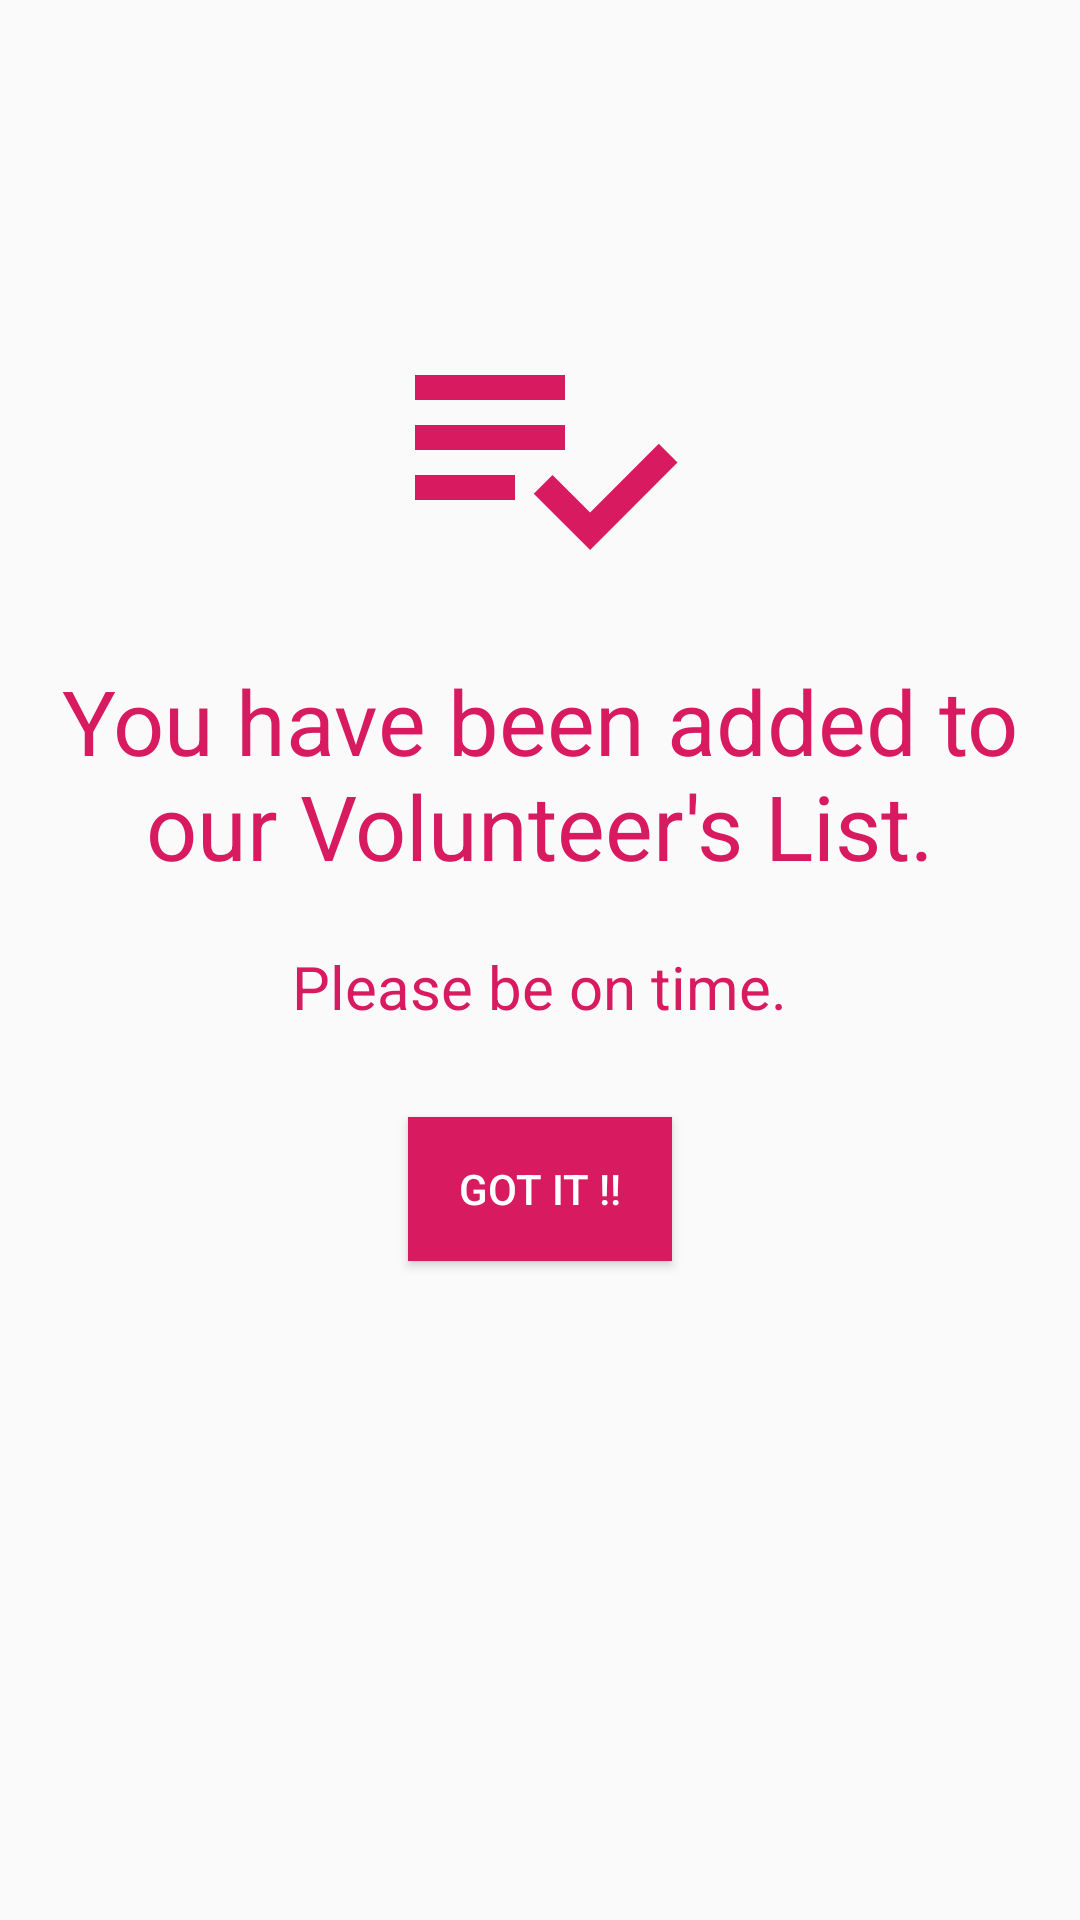

Where to tap for icons on this 1080px x 1920px app screen, as [x,y]:
playlist add check: [546,462]
